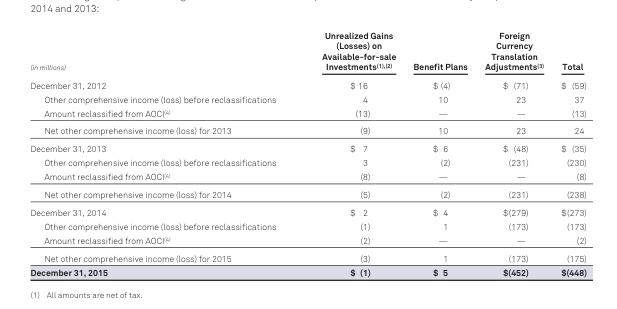table: (29, 29, 586, 277)
table column: (29, 29, 298, 277), (298, 29, 403, 277), (475, 29, 551, 277), (403, 29, 475, 277), (551, 29, 586, 277)
table column header: (29, 29, 586, 75)
table row: (29, 29, 586, 75), (29, 121, 586, 139), (29, 185, 586, 203), (29, 75, 586, 91), (29, 105, 586, 121), (29, 139, 586, 155), (29, 169, 586, 185), (29, 203, 586, 219), (29, 248, 586, 264), (29, 233, 586, 248), (29, 91, 586, 105), (29, 155, 586, 169), (29, 219, 586, 233), (29, 264, 586, 277)
